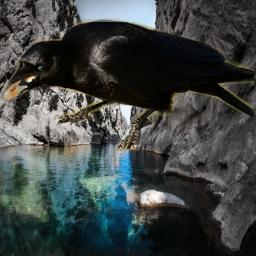Crow: (2, 18, 254, 151)
